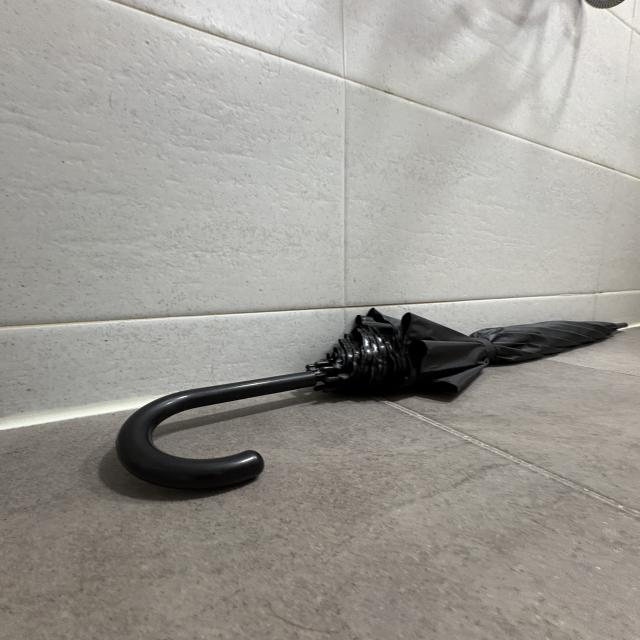umbrella: (116, 306, 627, 488)
